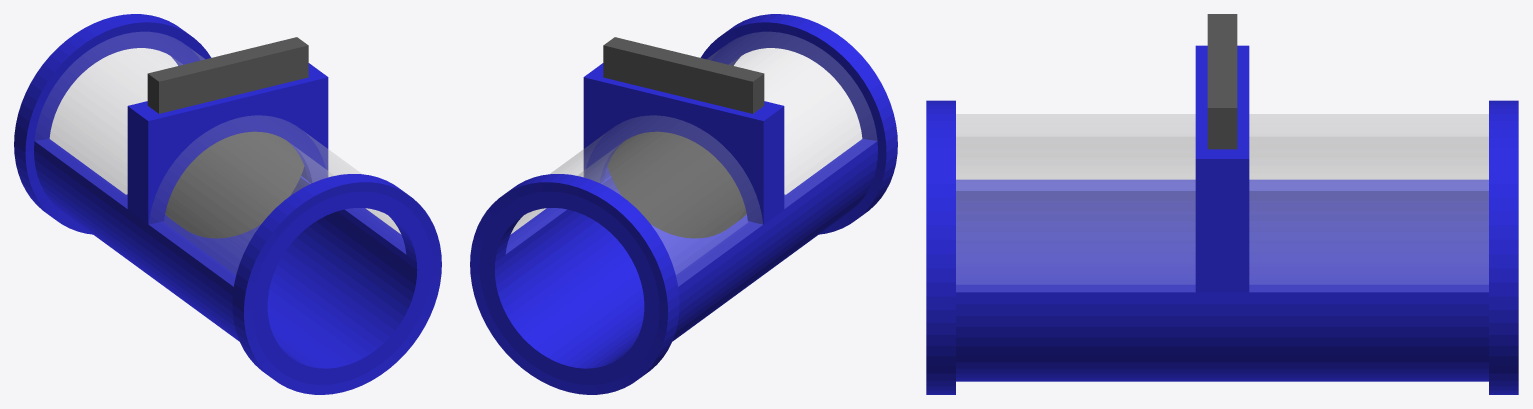
Rendered from damper 1.fbx.
3 views of the same model, side by side, from view 1: azimuth 30°, elevation 25°; view 2: azimuth 150°, elevation 25°; view 3: azimuth 270°, elevation 25° (orthographic). The views are drawn at different scales.
Parts seen in each view (by area): view 1: Pipe, Damper, Post; view 2: Pipe, Damper, Post; view 3: Pipe, Post, Damper.
Part boxes in pixels (x1,y1,x2,y2): Pipe: (14,14,441,394); Damper: (147,37,308,238); Post: (127,63,328,224); Pipe: (470,14,897,394); Damper: (603,37,764,238); Post: (583,63,784,224); Pipe: (926,100,1518,394); Post: (1195,45,1249,292); Damper: (1207,14,1237,149).
Bounding box in the file's own units: 220 × 264 × 442.
